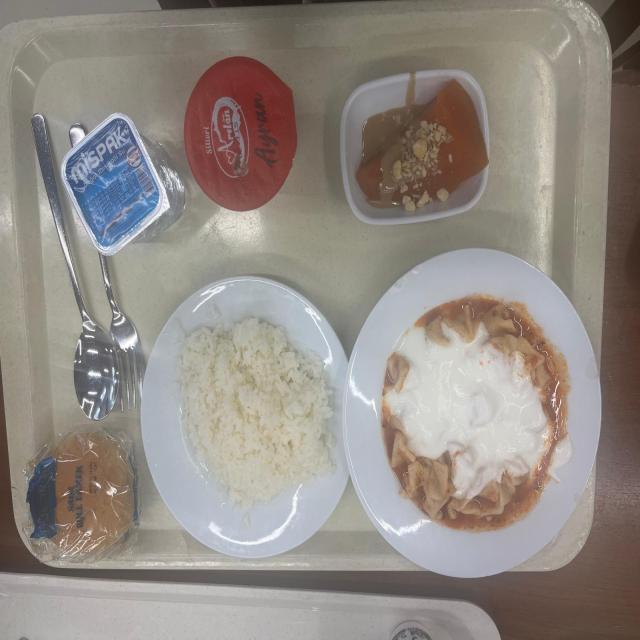ana_yemek: (347, 249, 603, 576), (140, 277, 340, 555)
yan_yemek: (339, 71, 482, 225)
